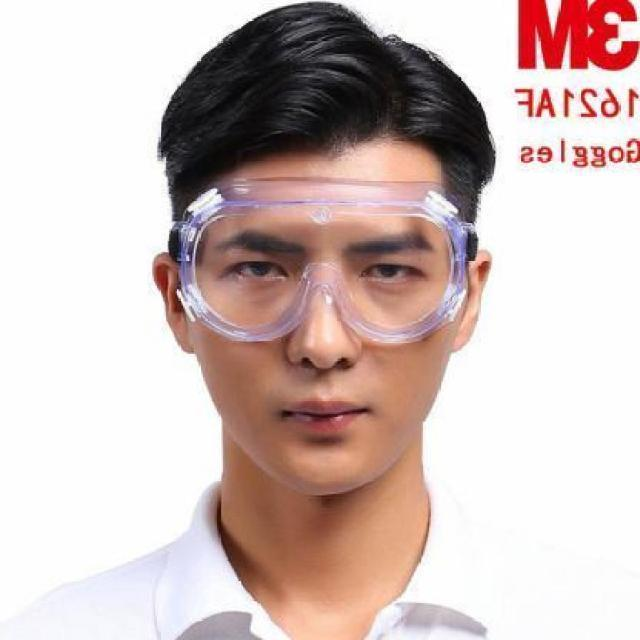Goggles: (164, 183, 470, 352)
